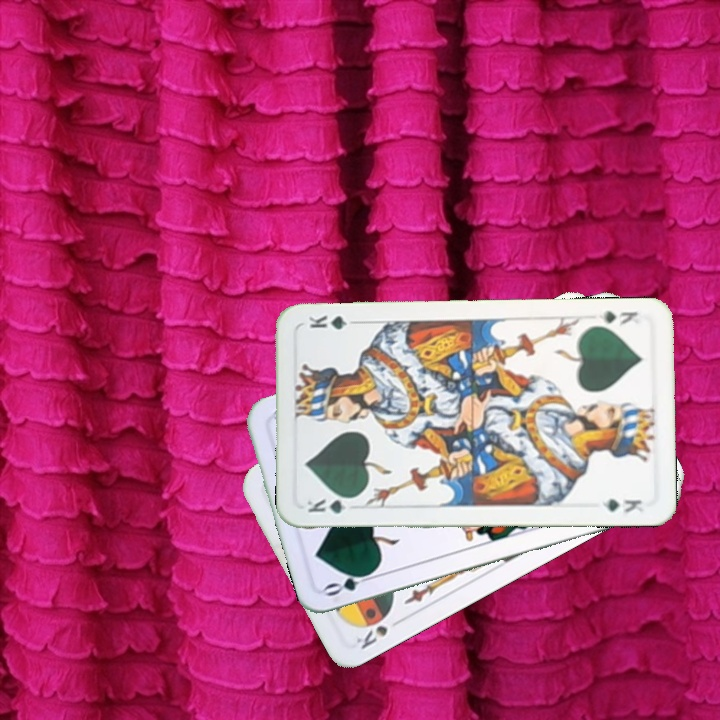GK: (303, 494, 360, 517), (594, 307, 641, 329)
GO: (320, 566, 379, 599)
SK: (351, 621, 391, 652)
